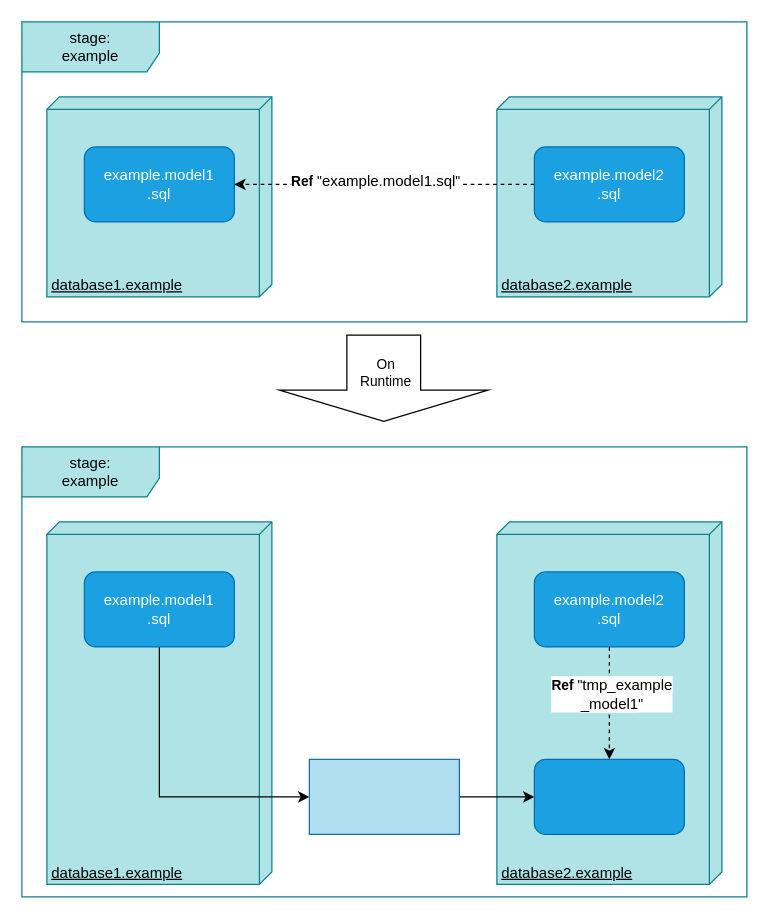
Some shapes in this 769 by 919 pixel diagram are drawn without their labels. The centre of each missing label's shape, as x and y in pixels:
"gota.DataFrame" belongs at pixel 383 796.
"tmp_example _model1 table" belongs at pixel 608 796.
